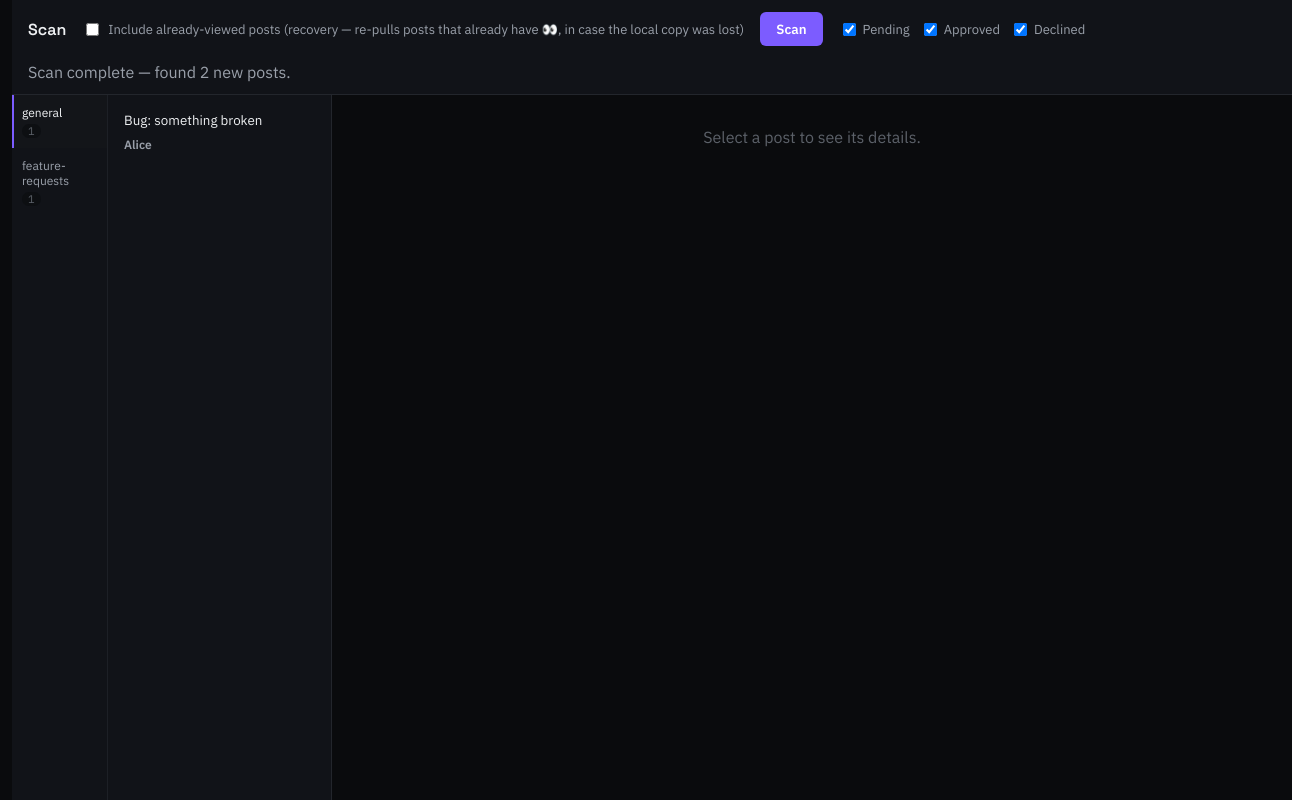
it: ScanPanel › narrows the visible list within the active tab when the status filter changes, without switching tabs
The image size is (1292, 800).
Check: the button "Bug: something broken" is shown, box [116,103,323,137]
Click the checkbox labelled "Approved": (930, 29) [924,22,937,36]
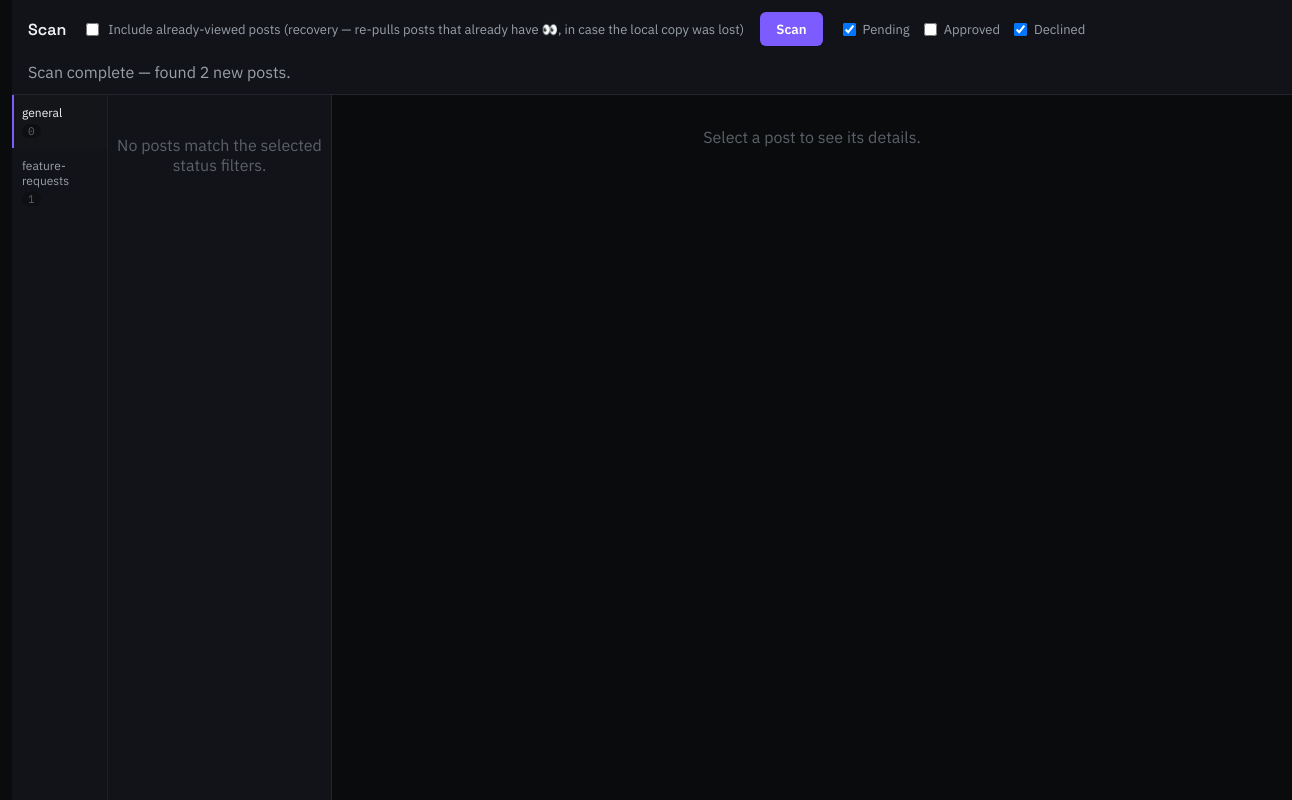
Check: the tab "feature-requests 1" is shown, box [12,148,107,216]
Check: the button "Bug: something broken" is gone
Check: the tab "general 0" is shown, box [12,95,107,148]
